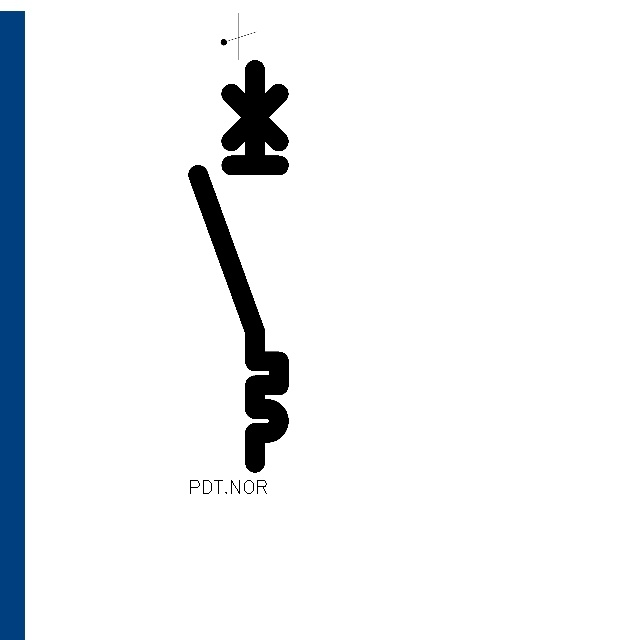interruptor_termomagnetico: (188, 59, 289, 472)
